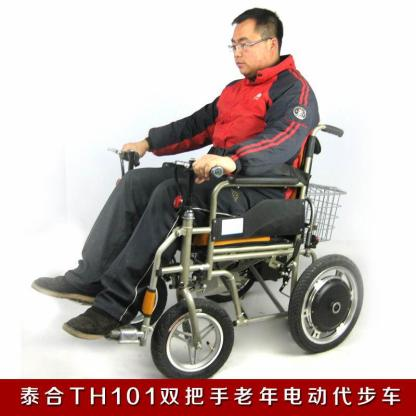wheelchair: (61, 5, 368, 371)
